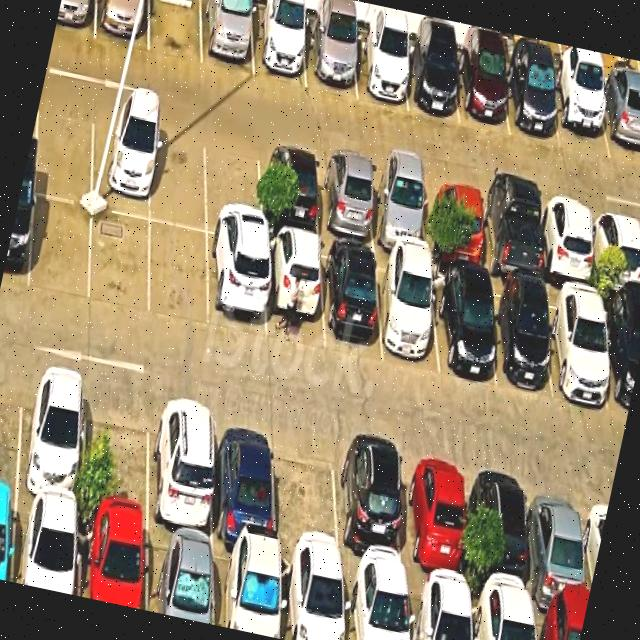empty: (82, 379, 150, 525), (275, 423, 340, 566), (29, 195, 92, 301), (34, 95, 93, 204), (90, 208, 149, 317), (205, 131, 261, 244), (150, 120, 206, 231), (149, 222, 208, 327), (148, 0, 201, 64), (0, 360, 23, 494)
occupied: (334, 435, 406, 579), (16, 364, 85, 510), (401, 447, 465, 593), (149, 394, 213, 539), (213, 408, 275, 549), (528, 472, 589, 613), (475, 460, 533, 604), (544, 285, 610, 407), (430, 268, 495, 386), (484, 278, 551, 392), (376, 255, 439, 374), (321, 243, 382, 358), (264, 232, 323, 349), (91, 107, 152, 219), (146, 527, 213, 624), (12, 498, 78, 596), (79, 513, 145, 610), (213, 542, 279, 638), (478, 186, 541, 283), (207, 235, 265, 339), (259, 143, 319, 237), (424, 176, 484, 269), (280, 555, 344, 640), (368, 163, 427, 255), (549, 70, 609, 159), (317, 154, 375, 246), (538, 197, 595, 288), (504, 56, 559, 147), (600, 296, 640, 417), (455, 47, 509, 135), (402, 40, 459, 123), (251, 4, 306, 87), (590, 206, 640, 297), (352, 29, 407, 111), (343, 571, 408, 640), (305, 19, 356, 97), (201, 0, 253, 76), (595, 78, 640, 165), (407, 581, 470, 640), (0, 187, 34, 290), (470, 593, 533, 640), (95, 0, 149, 50), (533, 605, 585, 640), (54, 0, 96, 38), (0, 496, 16, 581)
